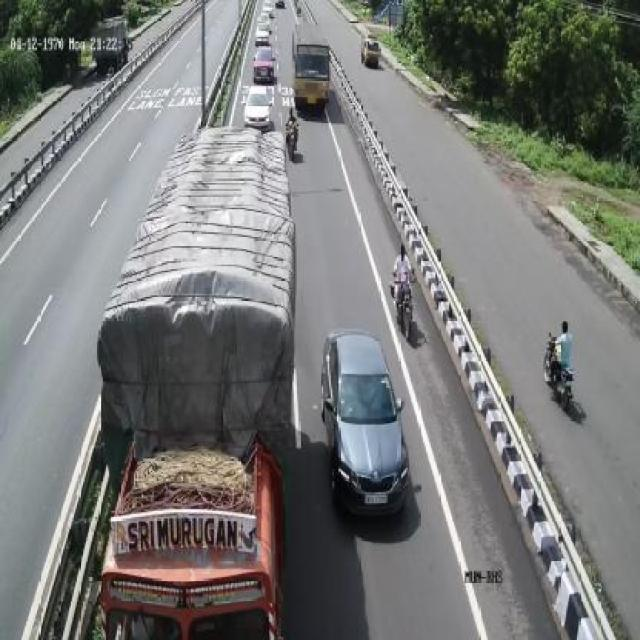car: (318, 323, 418, 515), (238, 83, 276, 132)
